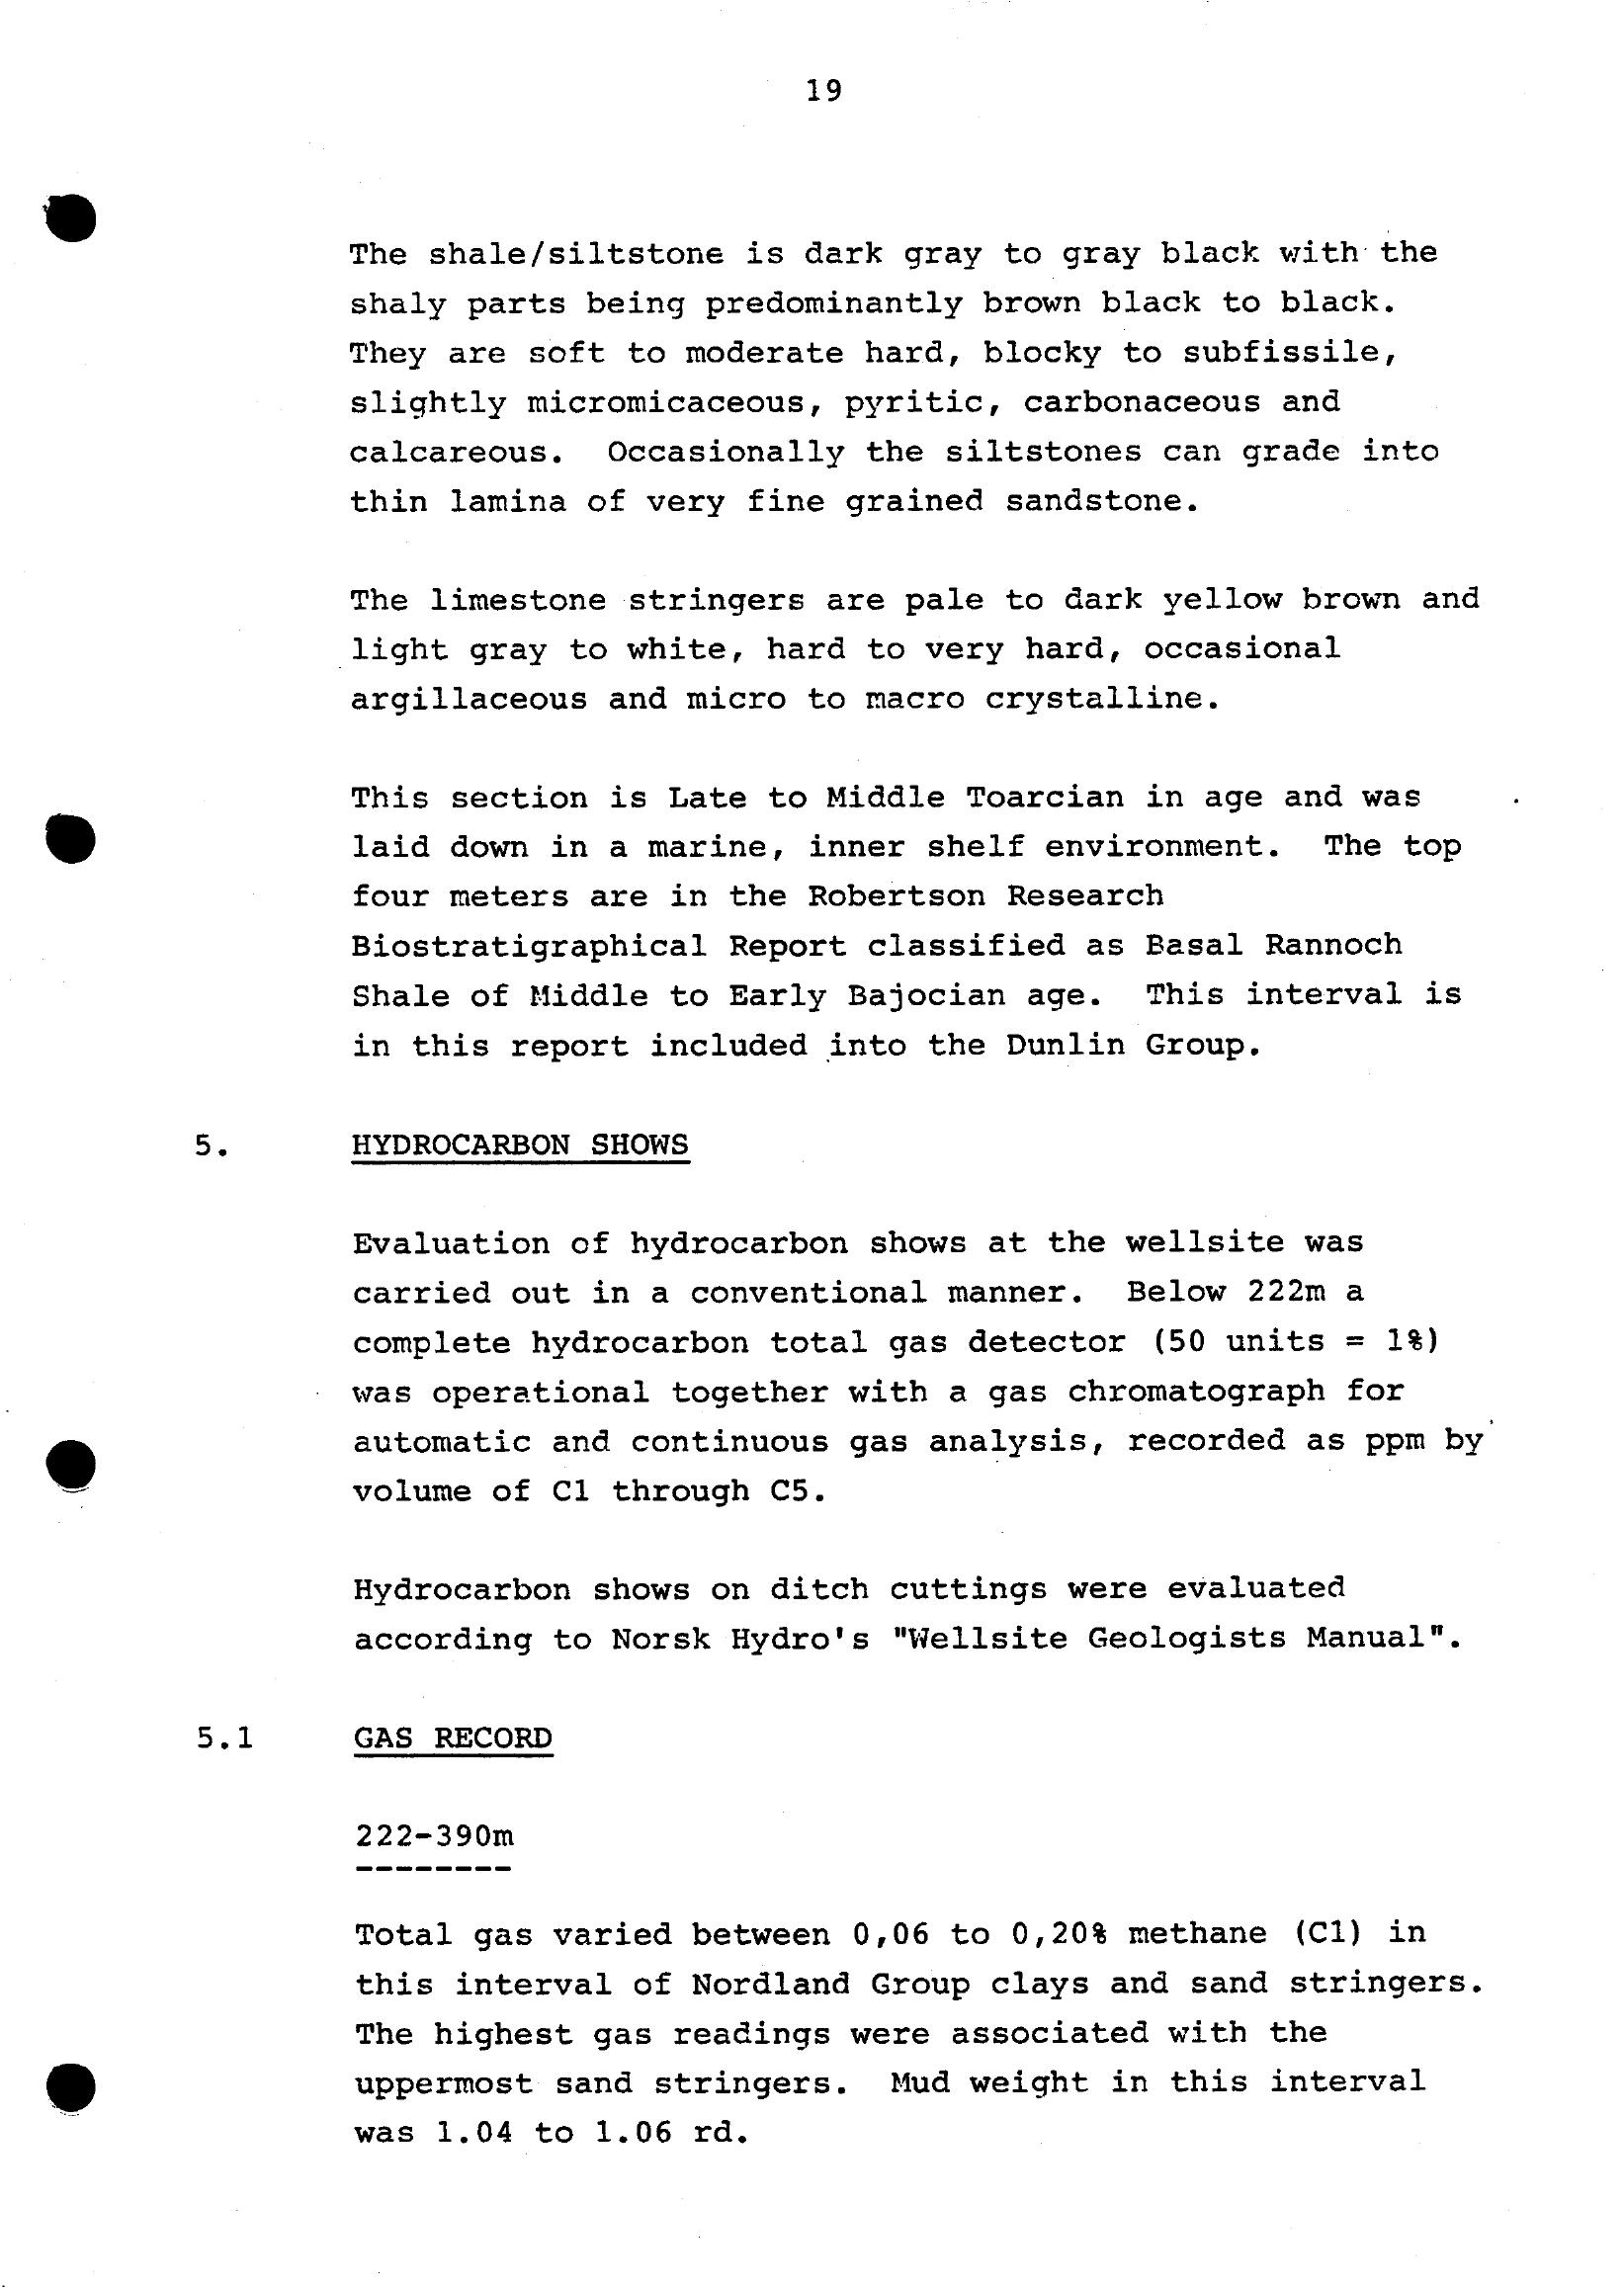text: (315, 193, 1536, 2244)
